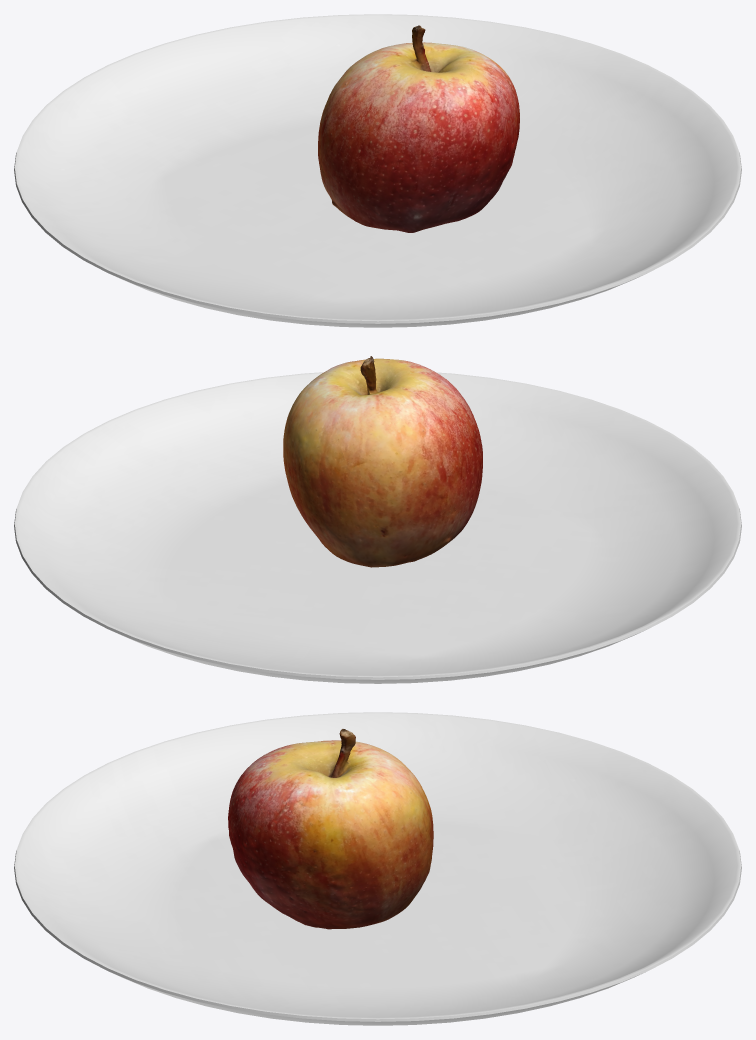
The model's file is apple_plate-compressed.glb.
The picture shows the model from 3 angles, top to bottom: view 1: azimuth 30°, elevation 25°; view 2: azimuth 150°, elevation 25°; view 3: azimuth 270°, elevation 25°; orthographic projection.
Visible parts, largest first — view 1: Plate, 02_08_2025; view 2: Plate, 02_08_2025; view 3: Plate, 02_08_2025.
Part boxes in pixels (box(x1,y1,x2,y2)): Plate: box(14, 14, 741, 327); 02_08_2025: box(318, 25, 519, 232); Plate: box(14, 372, 741, 683); 02_08_2025: box(283, 356, 482, 567); Plate: box(14, 712, 741, 1025); 02_08_2025: box(228, 729, 433, 929).
Size of the model in its own units: 0.2116 by 0.0649 by 0.2116.
2 materials, 2 textured.
